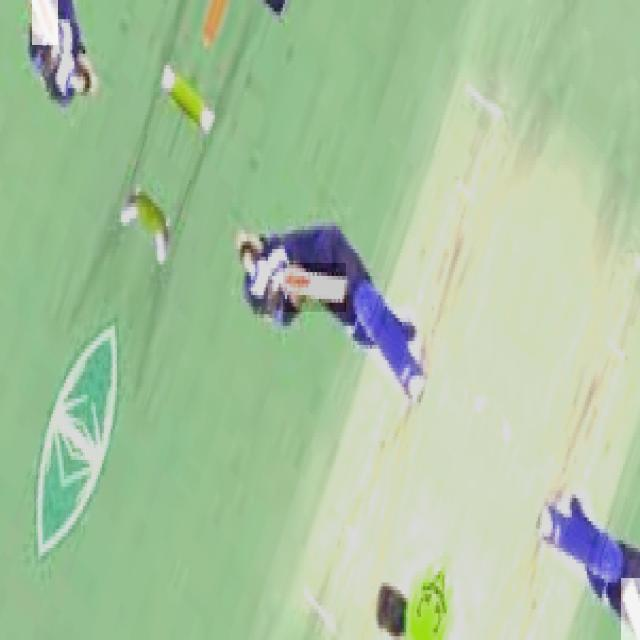bat: (270, 271, 351, 305), (617, 575, 640, 640)
